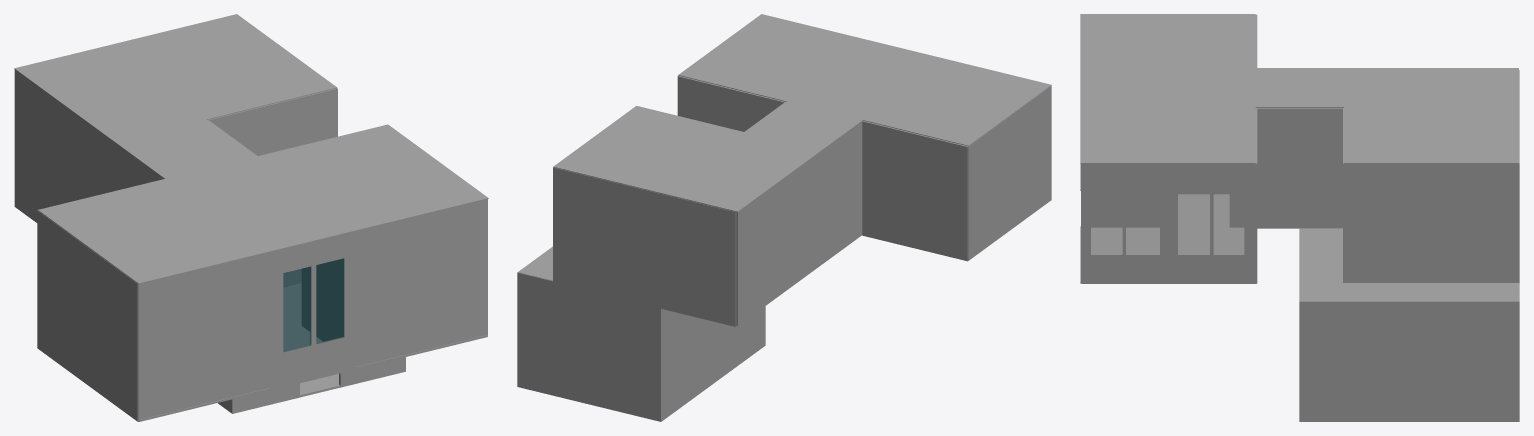
The model's file is Apartment_V2.fbx.
3 renders of one model, left to right at view 1: azimuth 30°, elevation 25°; view 2: azimuth 150°, elevation 25°; view 3: azimuth 270°, elevation 25°, orthographic. The views are drawn at different scales.
Parts seen in each view (by area): view 1: polySurface1; view 2: polySurface1; view 3: polySurface1.
Part boxes in pixels (x1=…): polySurface1: x1=14, y1=14, x2=488, y2=421; polySurface1: x1=517, y1=14, x2=1051, y2=421; polySurface1: x1=1080, y1=14, x2=1519, y2=421.
Bounding box in the file's own units: 1806 × 1211 × 2002.
